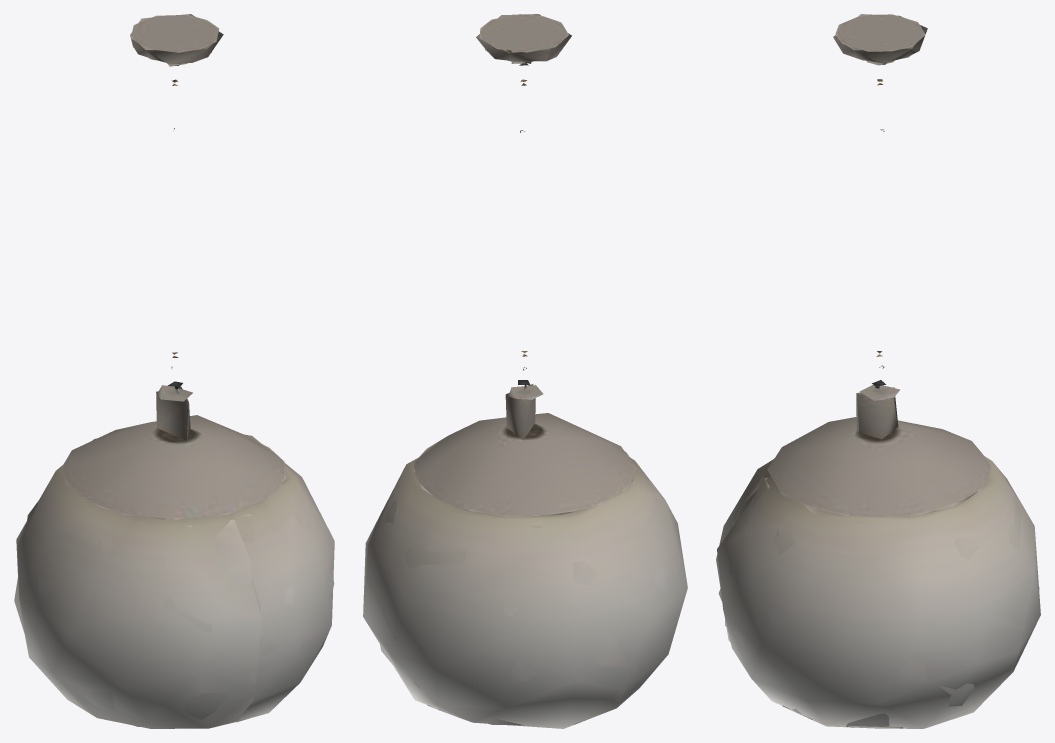
The model's file is modern_ceiling_lamp_01.glb.
3 renders of one model, left to right at view 1: azimuth 30°, elevation 25°; view 2: azimuth 150°, elevation 25°; view 3: azimuth 270°, elevation 25°, orthographic.
Visible parts, largest first — view 1: modern_ceiling_lamp_01; view 2: modern_ceiling_lamp_01; view 3: modern_ceiling_lamp_01.
Part boxes in pixels (x1,y1,x2,y2): modern_ceiling_lamp_01: [14, 14, 334, 728]; modern_ceiling_lamp_01: [363, 14, 687, 728]; modern_ceiling_lamp_01: [716, 14, 1040, 728].
Size of the model in its own units: 0.4356 by 0.9522 by 0.432.
3 materials, 3 textured.
